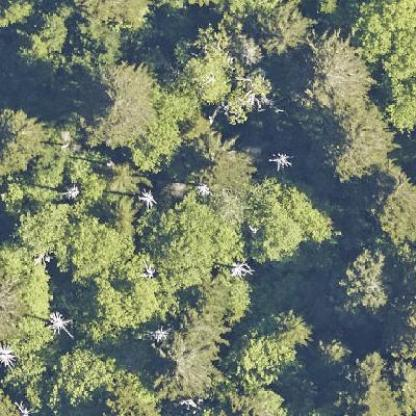tree-top: (249, 168, 337, 262), (222, 308, 310, 386), (0, 242, 54, 359), (93, 64, 158, 151), (293, 32, 365, 109), (319, 105, 390, 175), (147, 331, 215, 401), (337, 249, 392, 313), (186, 40, 236, 105), (0, 104, 44, 176), (371, 179, 415, 248), (255, 2, 312, 51)
